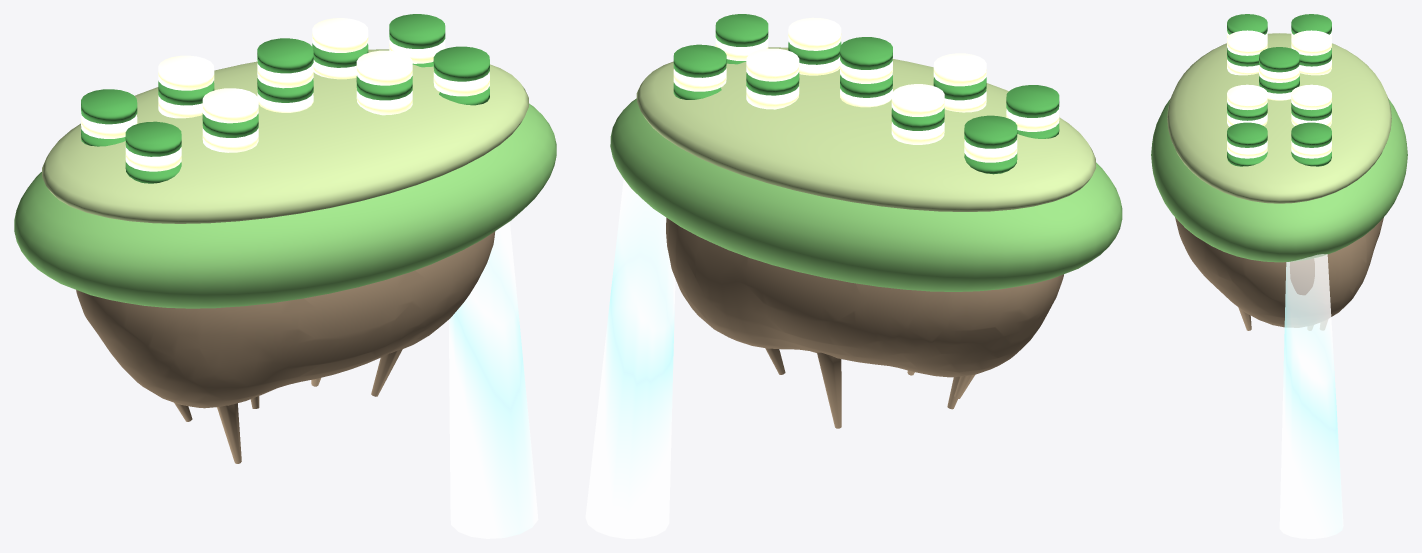
The model's file is S04_Floating_Chloroplast.glb.
The picture shows the model from 3 angles, left to right: view 1: azimuth 30°, elevation 25°; view 2: azimuth 150°, elevation 25°; view 3: azimuth 270°, elevation 25°; orthographic projection. The views are drawn at different scales.
Visible parts, largest first — view 1: S04_Floating_Chloroplast_Mesh; view 2: S04_Floating_Chloroplast_Mesh; view 3: S04_Floating_Chloroplast_Mesh.
Part boxes in pixels (bbox=[...]): S04_Floating_Chloroplast_Mesh: bbox=[14, 14, 556, 538]; S04_Floating_Chloroplast_Mesh: bbox=[585, 14, 1122, 538]; S04_Floating_Chloroplast_Mesh: bbox=[1151, 14, 1407, 538].
Bounding box in the file's own units: 8.2 × 8.09 × 4.8.
